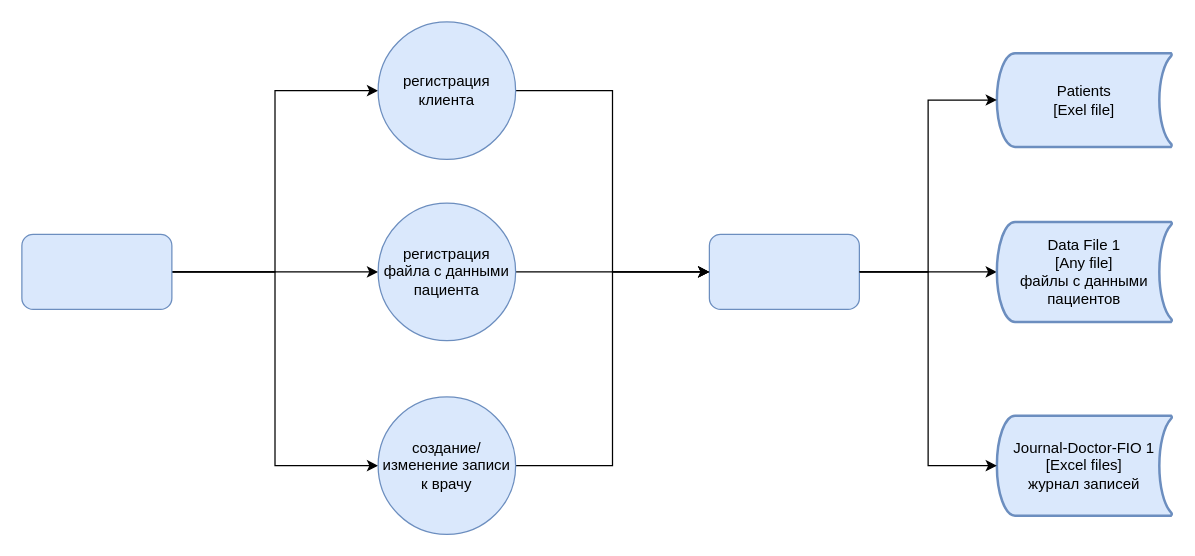
Image size: 1195x556. Some labels were removed from this diagram. Here are the shapes that lost their labels. From the top down, the centre of each, then its label:
At point 96,271: "Patent".
At point 783,271: "Administrator".
